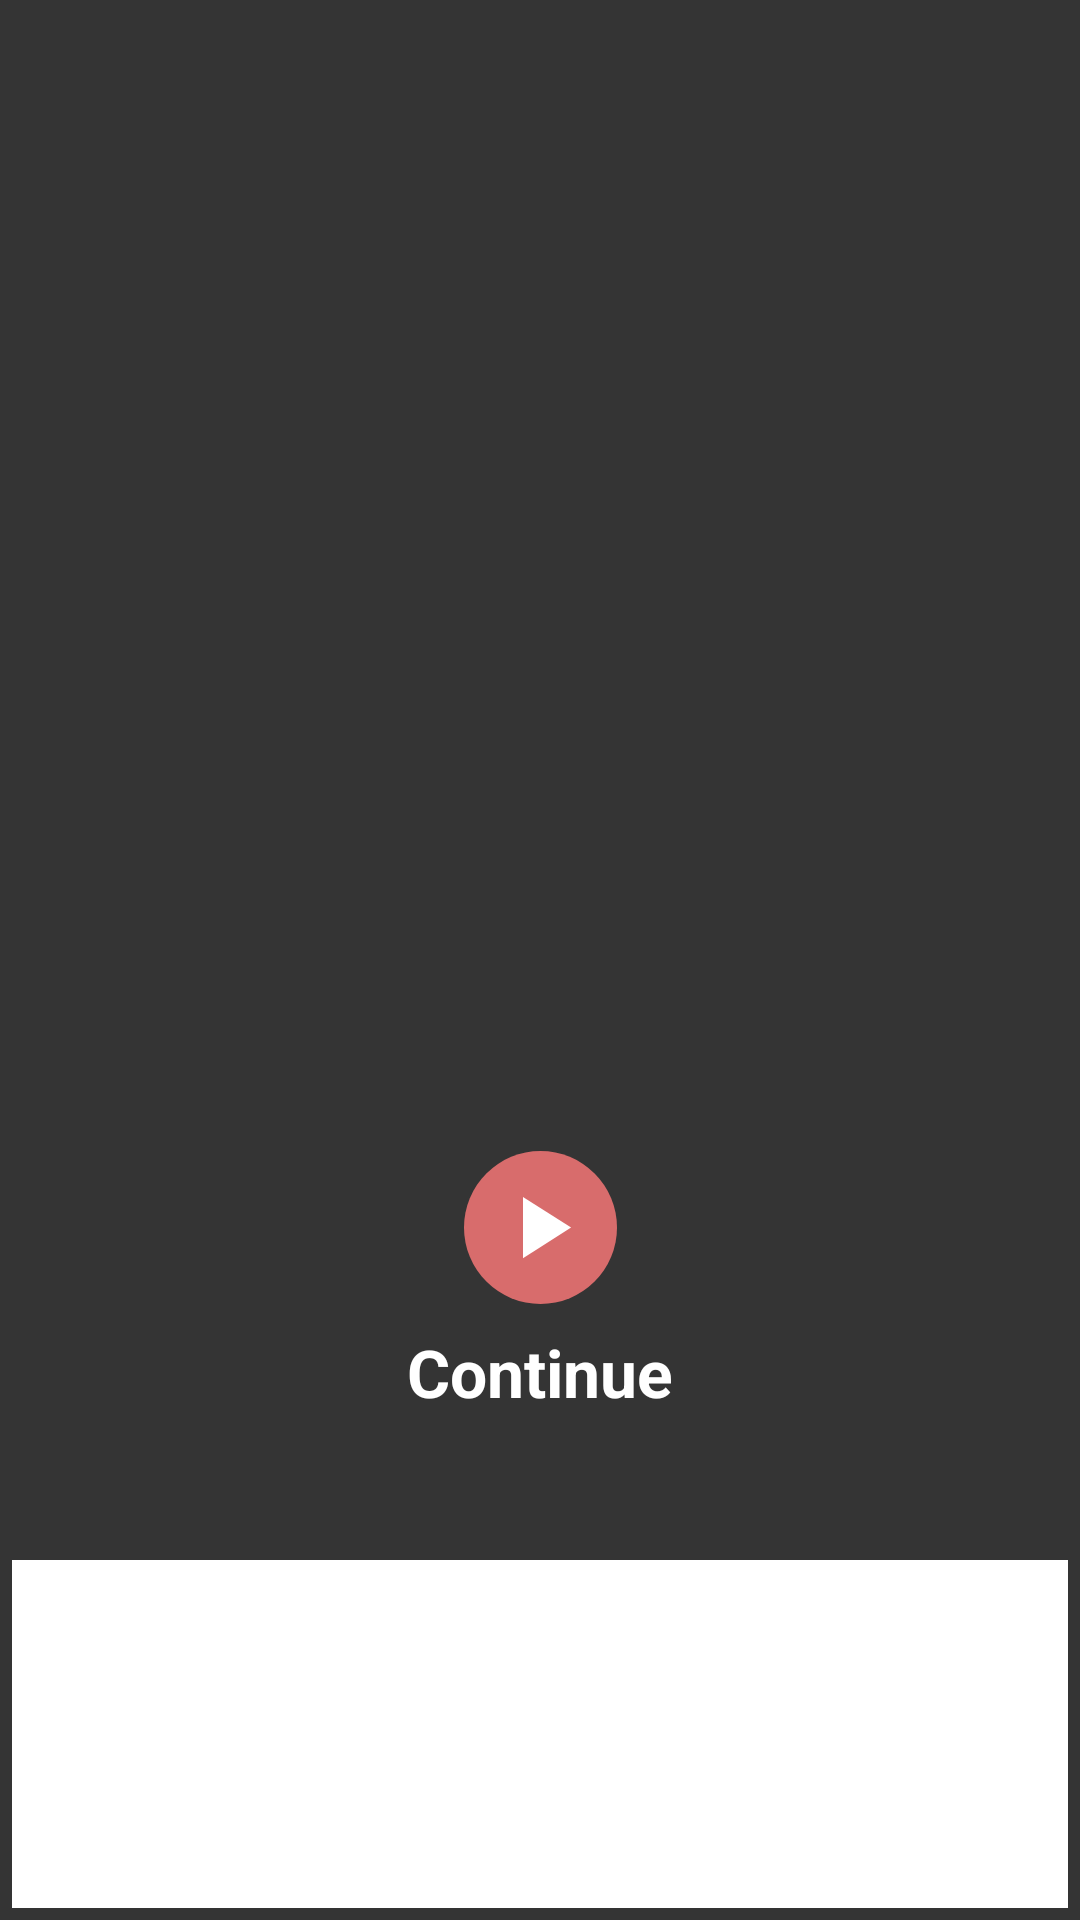

Named icons in this screenshot (1080 × 1920) and their centers, (x=x, y=y):
play arrow: (x=540, y=1227)
